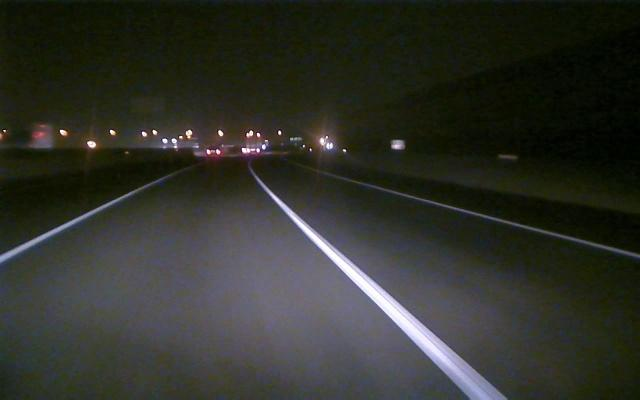lane: (258, 181, 506, 397), (354, 180, 640, 260), (2, 180, 158, 262)
